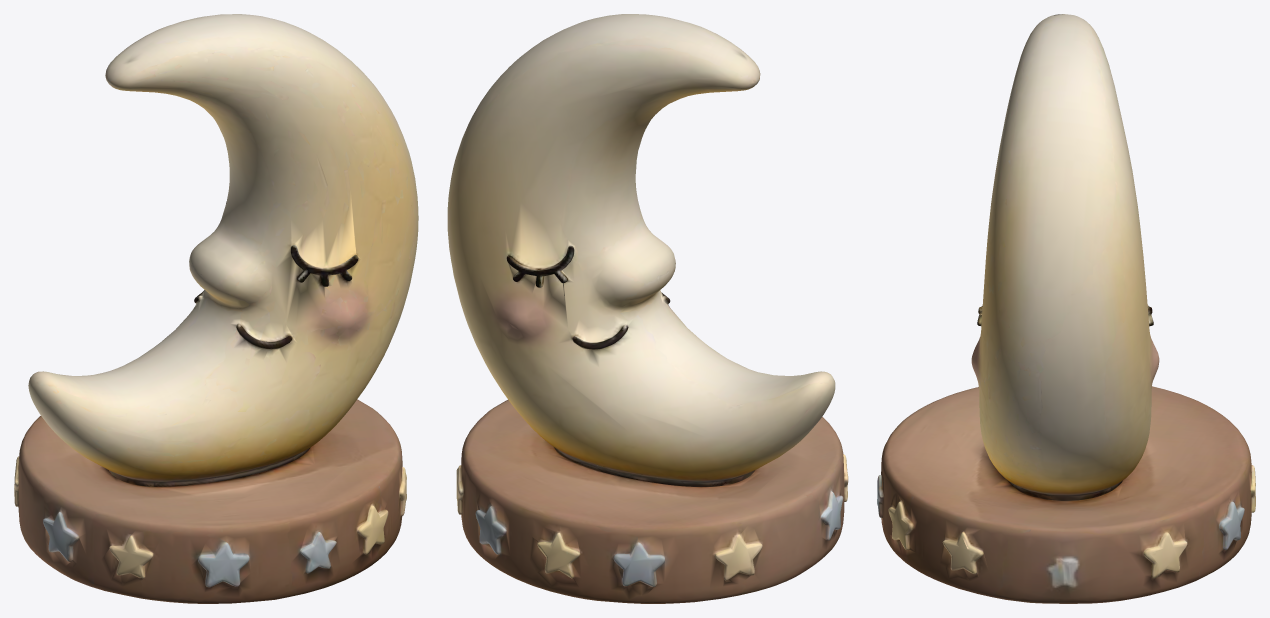
3 renders of one model, left to right at view 1: azimuth 30°, elevation 25°; view 2: azimuth 150°, elevation 25°; view 3: azimuth 270°, elevation 25°, orthographic. The views are drawn at different scales.
Parts seen in each view (by area): view 1: node_0; view 2: node_0; view 3: node_0.
Boxes of the visible parts, <box> form: node_0: <box>14,14,418,603</box>; node_0: <box>447,14,848,603</box>; node_0: <box>877,14,1255,603</box>.
Size of the model in its own units: 0.7573 by 0.9864 by 0.6925.
Materials: 1 (1 with a texture image).
